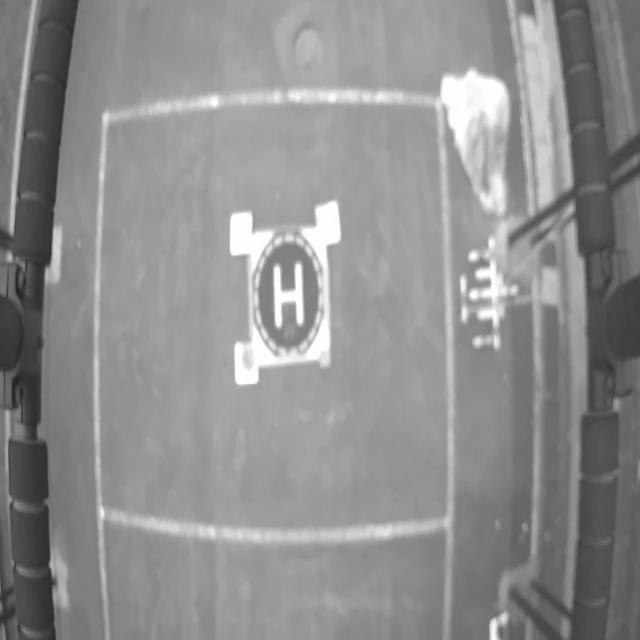Helipad: (272, 259, 304, 326)
